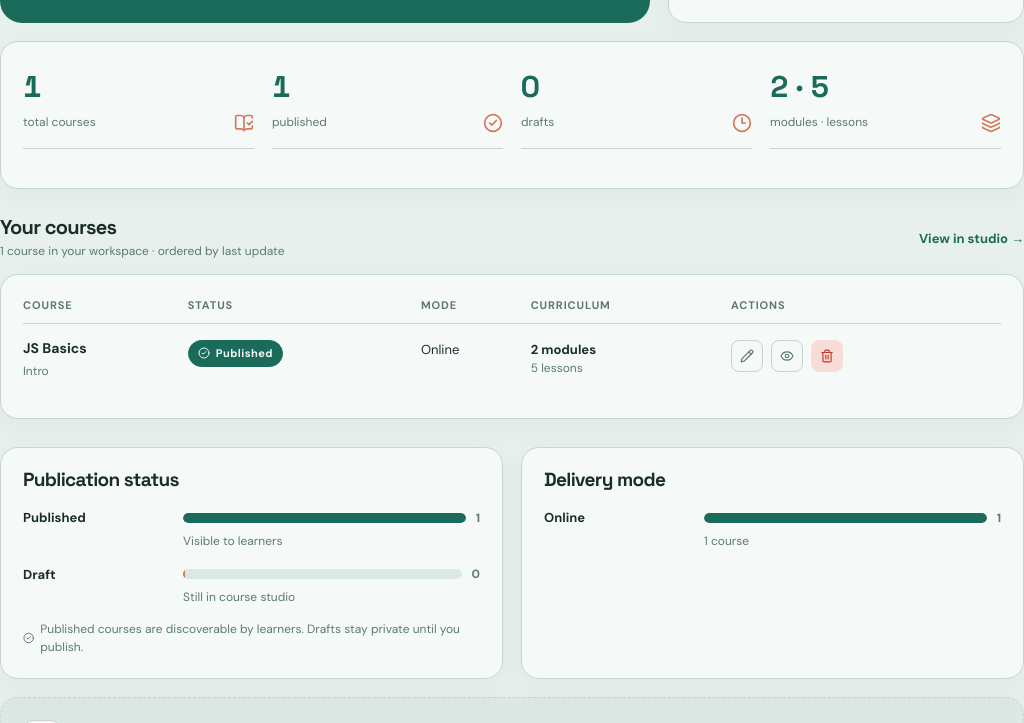
Scenario: ProviderDashboardPage › shows toast on delete failure
The image size is (1024, 723).
(page scrolled)
expect the text "JS Basics" is shown: met, box [23, 339, 87, 357]
Click the button named "Delete JS Basics" at x=827, y=356, box [811, 340, 843, 372]
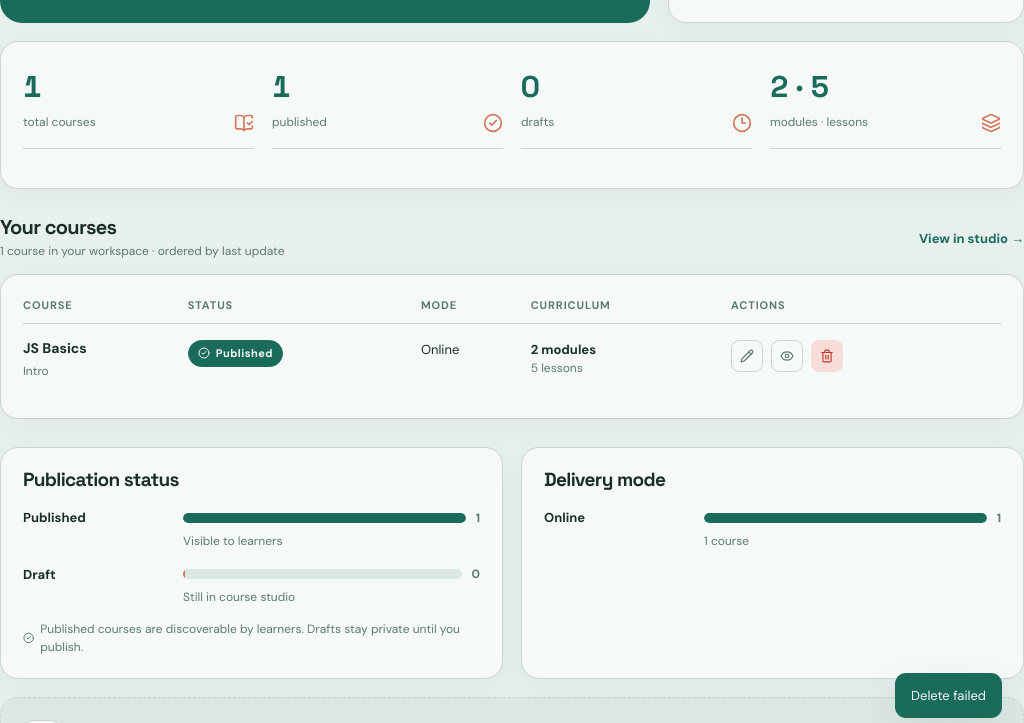
expect the text "JS Basics" is shown: met, box [23, 339, 87, 357]
expect the text "Delete failed" is shown: met, box [895, 672, 1002, 718]
